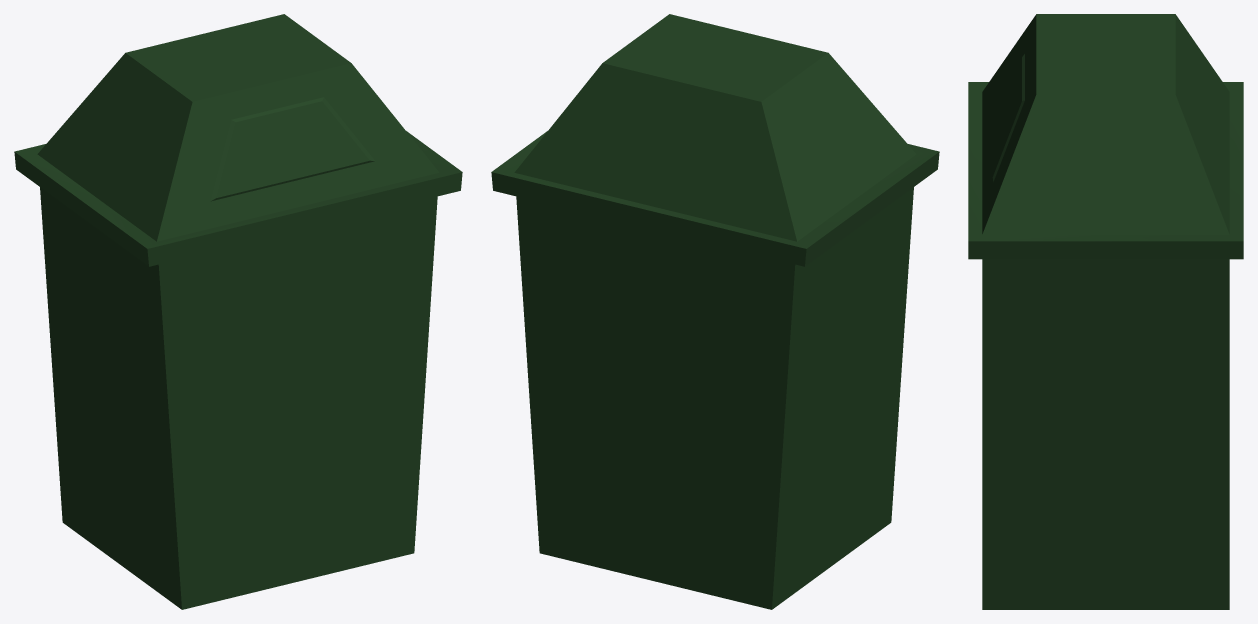
File: BASURAHAN(GREEN).fbx
The picture shows the model from 3 angles, left to right: view 1: azimuth 30°, elevation 25°; view 2: azimuth 150°, elevation 25°; view 3: azimuth 270°, elevation 25°; orthographic projection. The views are drawn at different scales.
Parts seen in each view (by area): view 1: pCube30; view 2: pCube30; view 3: pCube30.
Part boxes in pixels (x1=…): pCube30: x1=14, y1=14, x2=462, y2=609; pCube30: x1=491, y1=14, x2=939, y2=609; pCube30: x1=968, y1=14, x2=1243, y2=609.
Size of the model in its own units: 1.52 by 2.22 by 1.11.
